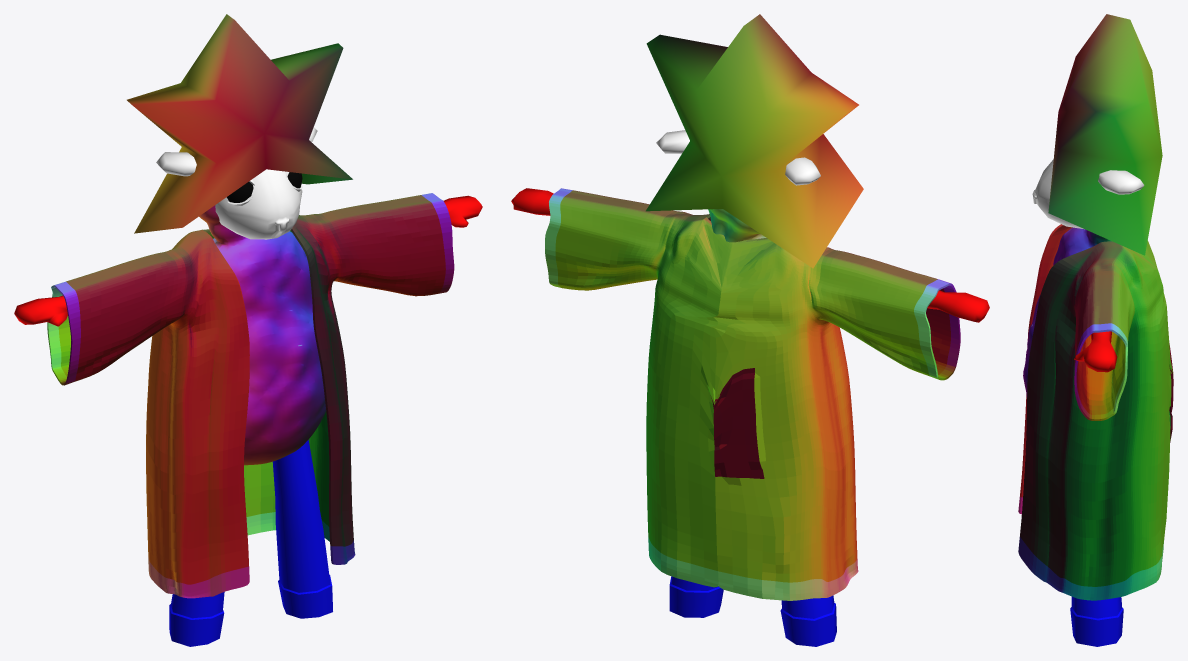
File: YellowSheep (1).fbx
3 renders of one model, left to right at view 1: azimuth 30°, elevation 25°; view 2: azimuth 150°, elevation 25°; view 3: azimuth 270°, elevation 25°, orthographic. The views are drawn at different scales.
Visible parts, largest first — view 1: robes.002, Star, Mball.002, Arms & Legs.002, Head.002, Ears.002; view 2: robes.002, Star, Arms & Legs.002, Ears.002, Mball.002; view 3: robes.002, Star, Arms & Legs.002, Mball.002, Ears.002, Head.002.
Boxes of the visible parts, x1=… form: robes.002: x1=47, y1=193, x2=454, y2=598; Star: x1=127, y1=14, x2=352, y2=233; Mball.002: x1=199, y1=205, x2=326, y2=465; Arms & Legs.002: x1=14, y1=195, x2=482, y2=646; Head.002: x1=215, y1=169, x2=302, y2=239; Ears.002: x1=156, y1=127, x2=317, y2=176; robes.002: x1=545, y1=188, x2=960, y2=600; Star: x1=646, y1=14, x2=863, y2=268; Arms & Legs.002: x1=511, y1=188, x2=989, y2=646; Ears.002: x1=656, y1=130, x2=820, y2=185; Mball.002: x1=708, y1=209, x2=766, y2=242; robes.002: x1=1018, y1=224, x2=1173, y2=600; Star: x1=1048, y1=14, x2=1162, y2=255; Arms & Legs.002: x1=1070, y1=331, x2=1123, y2=646; Mball.002: x1=1023, y1=227, x2=1111, y2=397; Ears.002: x1=1098, y1=170, x2=1144, y2=194; Head.002: x1=1032, y1=159, x2=1084, y2=229.
Bounding box in the file's own units: 165 × 205 × 48.81.
